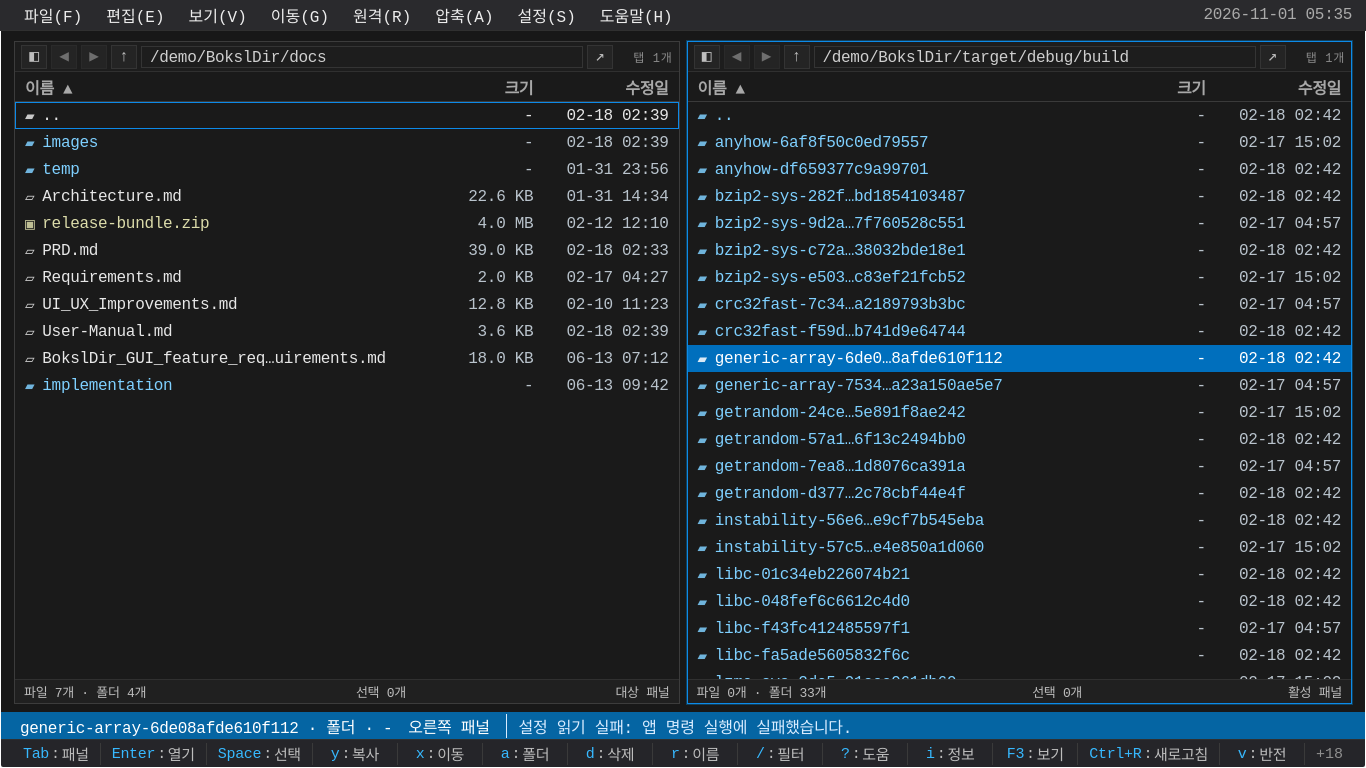
Test: CommanderShell operations › dismisses stale delete dialogs and refreshes the source panel when the backend reports not_found before start
Type keys "d"
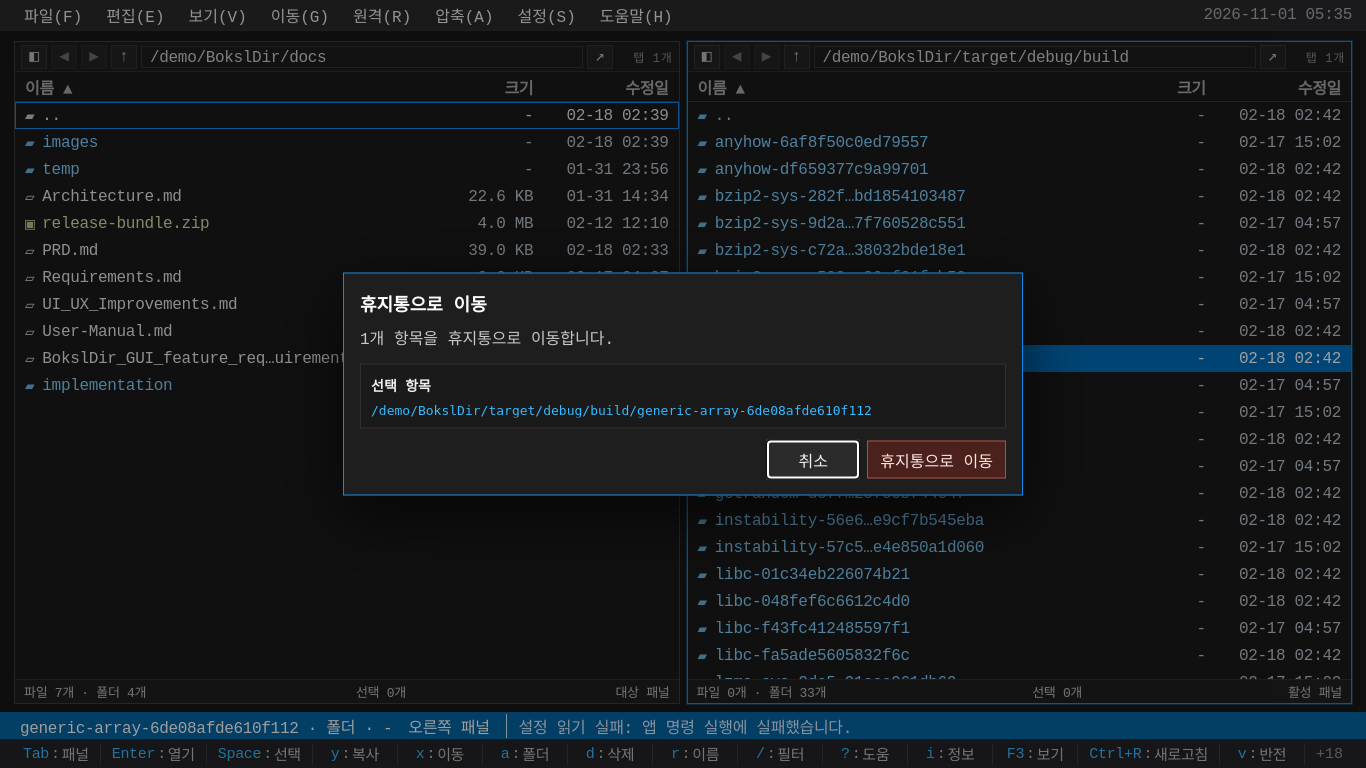
Expected: the dialog "휴지통으로 이동" is shown, 343,272 -> 1023,496
Click the button "휴지통으로 이동". click: click(937, 460)
box: 867,440 -> 1006,478
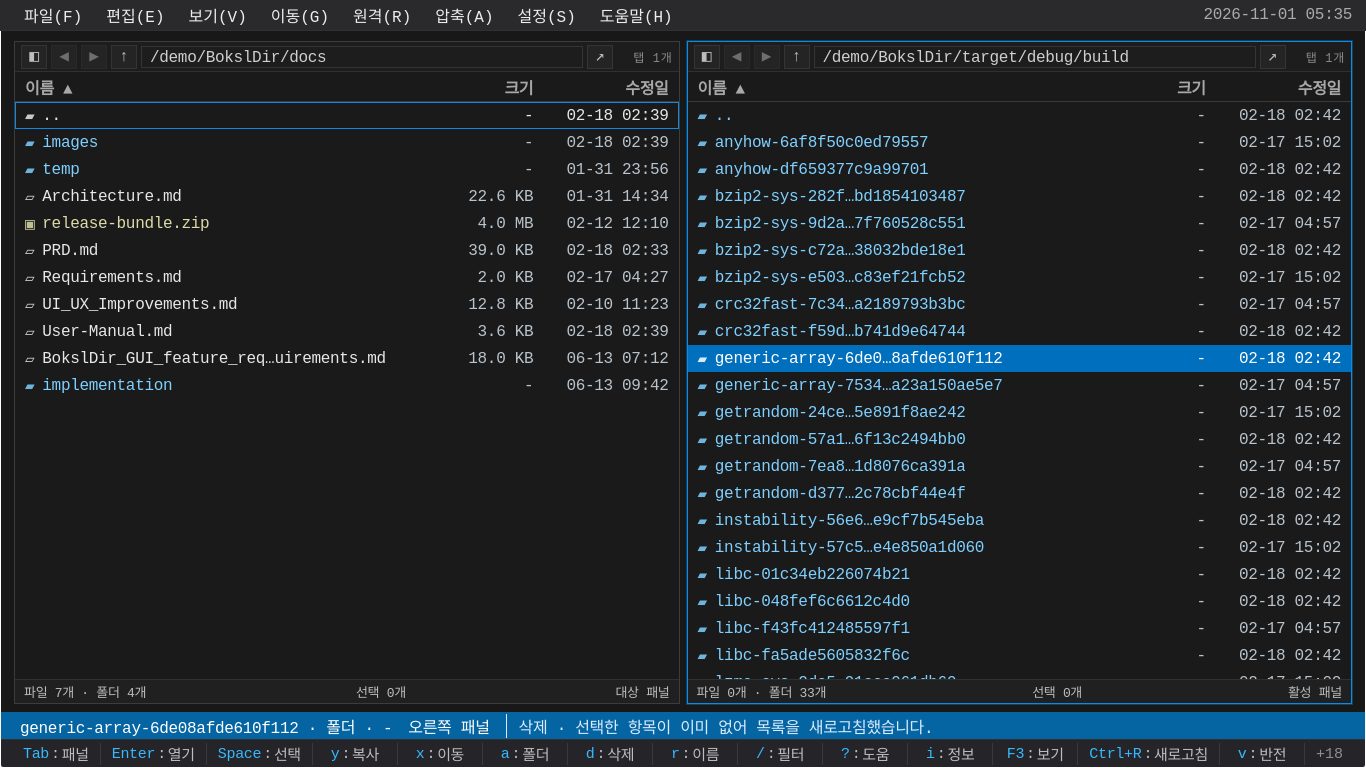
Expected: the heading "휴지통으로 이동" is gone
Expected: the text "삭제 · 선택한 항목이 이미 없어 목록을 새로고침했습니다." is shown, 506,714 -> 1346,738
